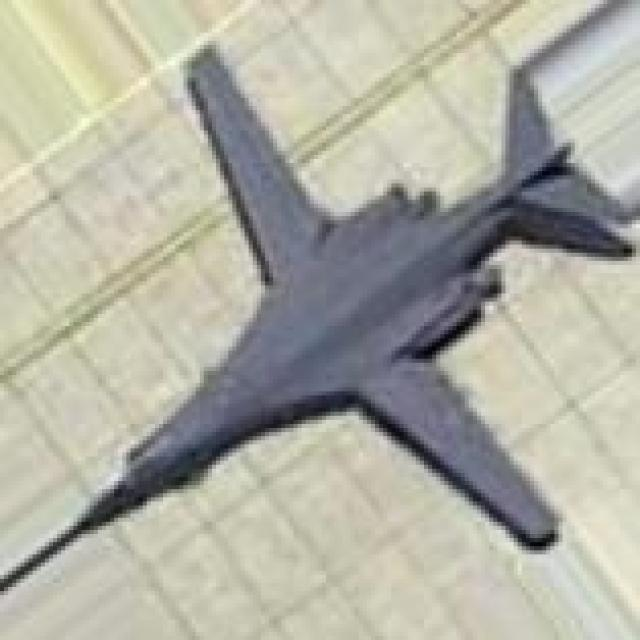B-1_TopDown: (0, 16, 636, 604)
